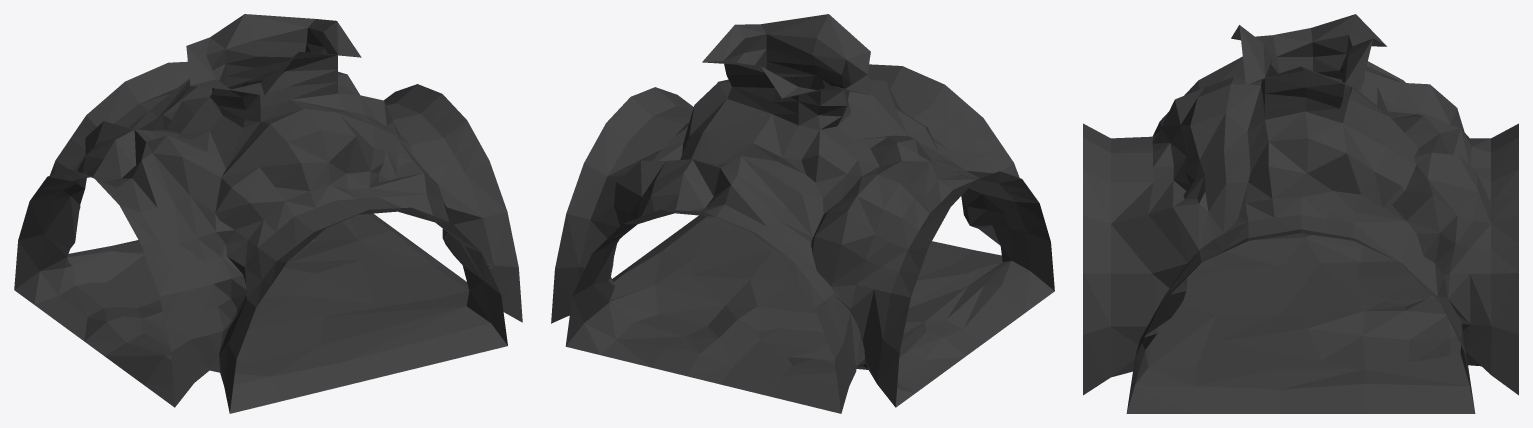
The model's file is Cave_5B_Intersection.fbx.
The picture shows the model from 3 angles, left to right: view 1: azimuth 30°, elevation 25°; view 2: azimuth 150°, elevation 25°; view 3: azimuth 270°, elevation 25°; orthographic projection. The views are drawn at different scales.
Visible parts, largest first — view 1: polySurface1220; view 2: polySurface1220; view 3: polySurface1220.
Part boxes in pixels (x1=…): polySurface1220: x1=14, y1=14, x2=522, y2=413; polySurface1220: x1=551, y1=14, x2=1054, y2=413; polySurface1220: x1=1083, y1=14, x2=1518, y2=413.
Size of the model in its own units: 10.32 by 7.8 by 10.32.
